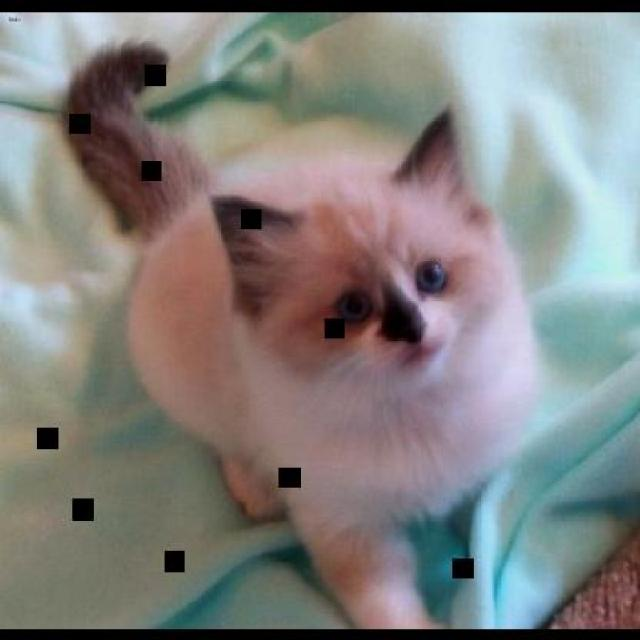unauthorized: (60, 37, 543, 628)
